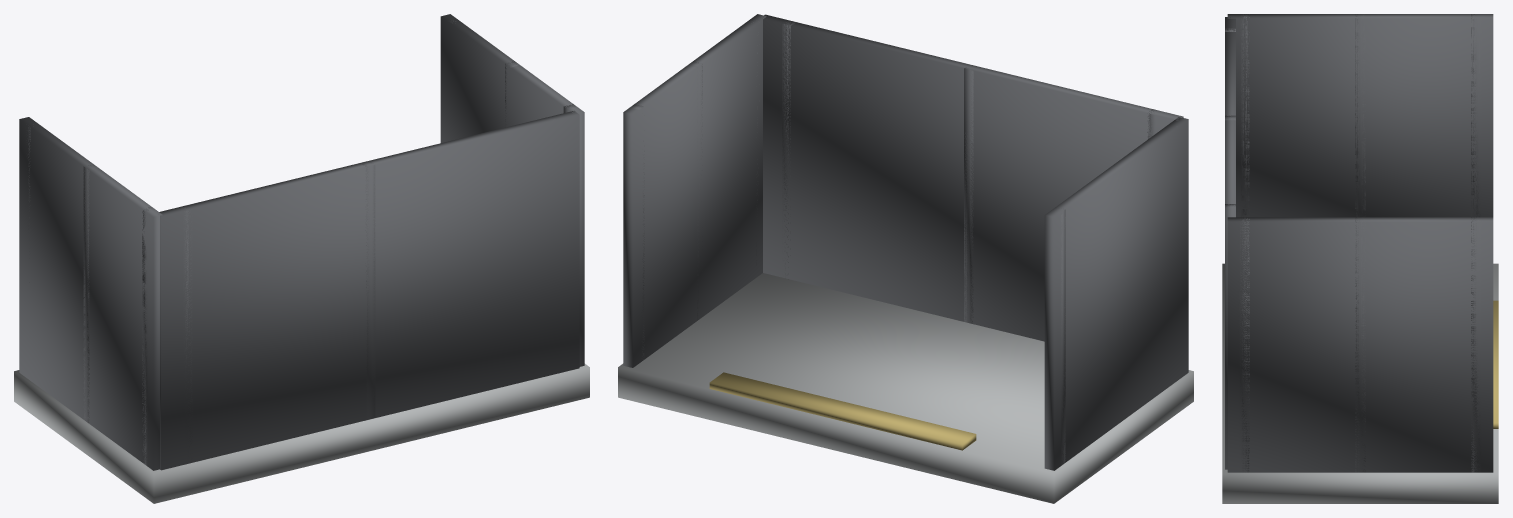
File: floor_w180_d100_three.glb
3 views of the same model, side by side, from view 1: azimuth 30°, elevation 25°; view 2: azimuth 150°, elevation 25°; view 3: azimuth 270°, elevation 25° (orthographic).
Parts seen in each view (by area): view 1: world; view 2: world; view 3: world.
Boxes of the visible parts, box(x1,y1,x2,y2) form: world: box(14, 14, 589, 503); world: box(618, 14, 1193, 503); world: box(1222, 14, 1498, 503).
Bounding box in the file's own units: 1.8 × 1.12 × 1.
